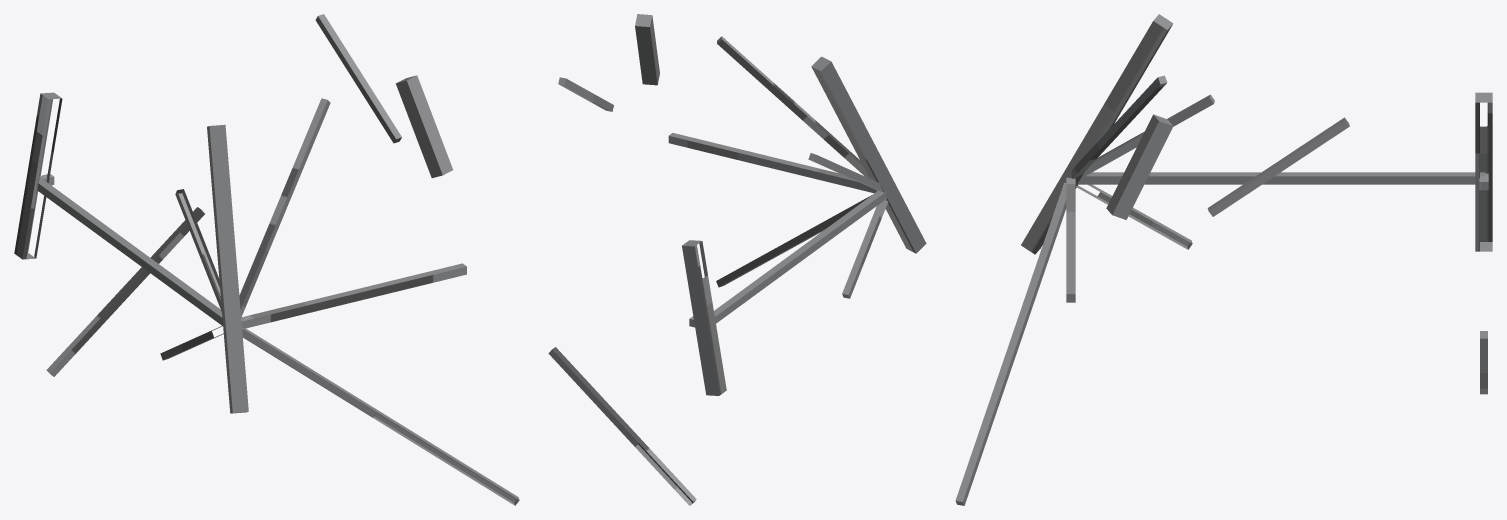
3 views of the same model, side by side, from view 1: azimuth 30°, elevation 25°; view 2: azimuth 150°, elevation 25°; view 3: azimuth 270°, elevation 25° (orthographic). The views are drawn at different scales.
Bounding box in the file's own units: 1.2 × 1.59 × 2.02.
